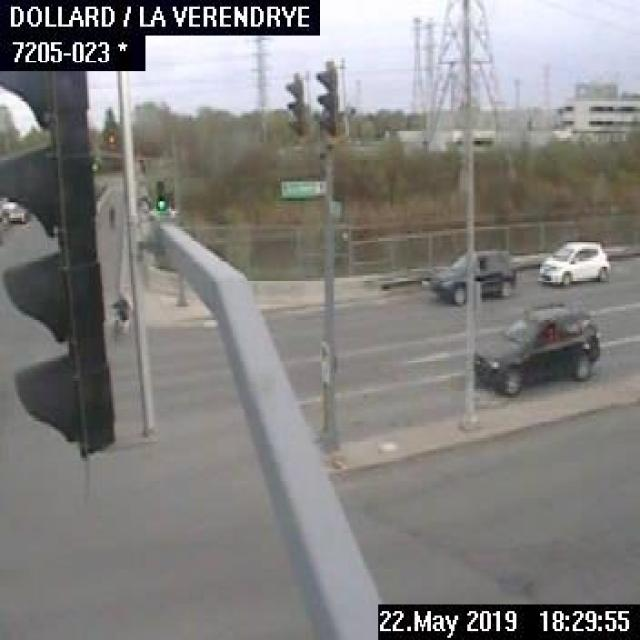pedestrian: (113, 291, 129, 336), (105, 198, 116, 231)
vehicle: (471, 298, 600, 393), (426, 245, 516, 307), (536, 238, 609, 284), (0, 198, 29, 222)
